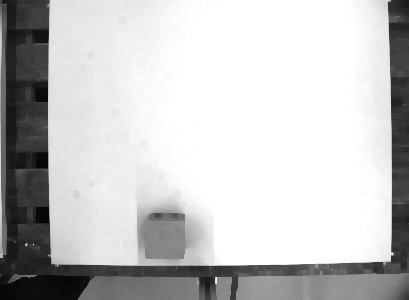b7: (140, 210, 187, 262)
